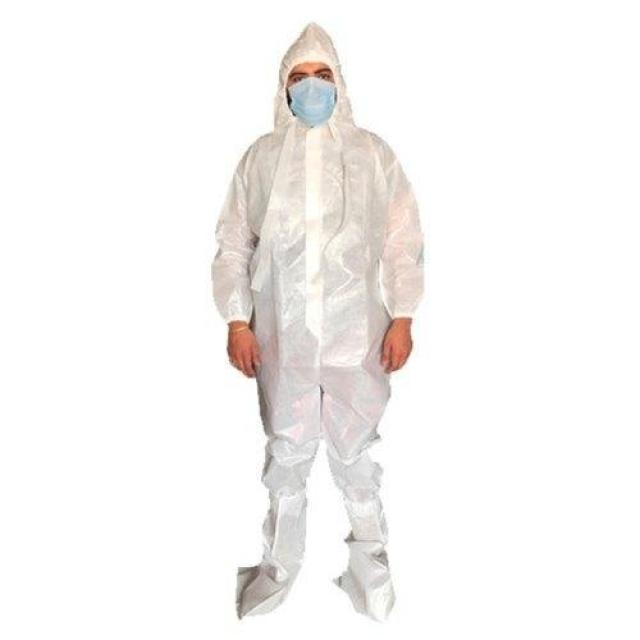Coverall: (165, 9, 495, 637)
Mask: (277, 77, 350, 129)
